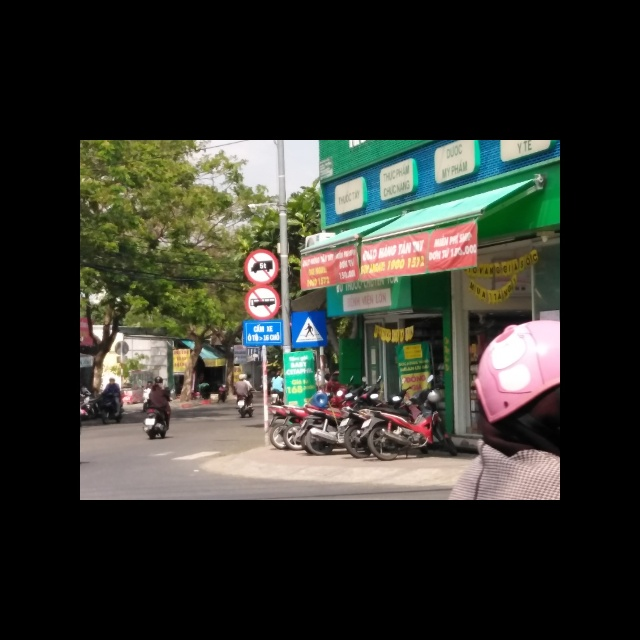Cấm xe tải: (245, 247, 281, 283)
Cấm xe xe khách: (245, 284, 282, 321)
Đường dành cho người đi bộ: (290, 312, 327, 349)
